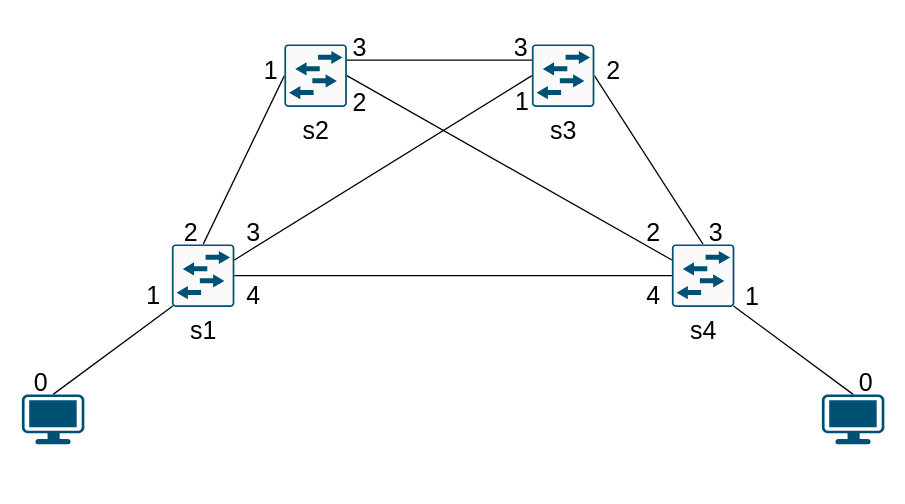
Image size: 905x504. Some labels were removed from this diagram. Here are the shapes that lost their labels. From the top down, the centre of each, then its label:
point 52,419: h1
point 852,419: h2
